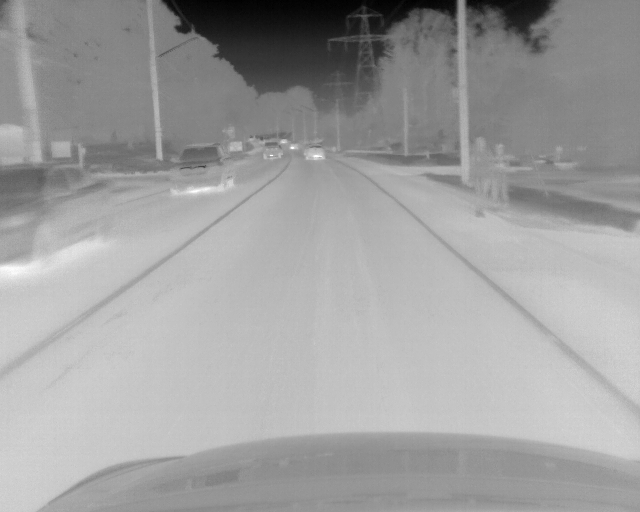car: (1, 161, 118, 270), (171, 143, 235, 196), (303, 144, 326, 162), (263, 143, 282, 161), (289, 143, 300, 151), (280, 138, 288, 144)
people: (492, 141, 517, 215), (470, 136, 492, 217)
